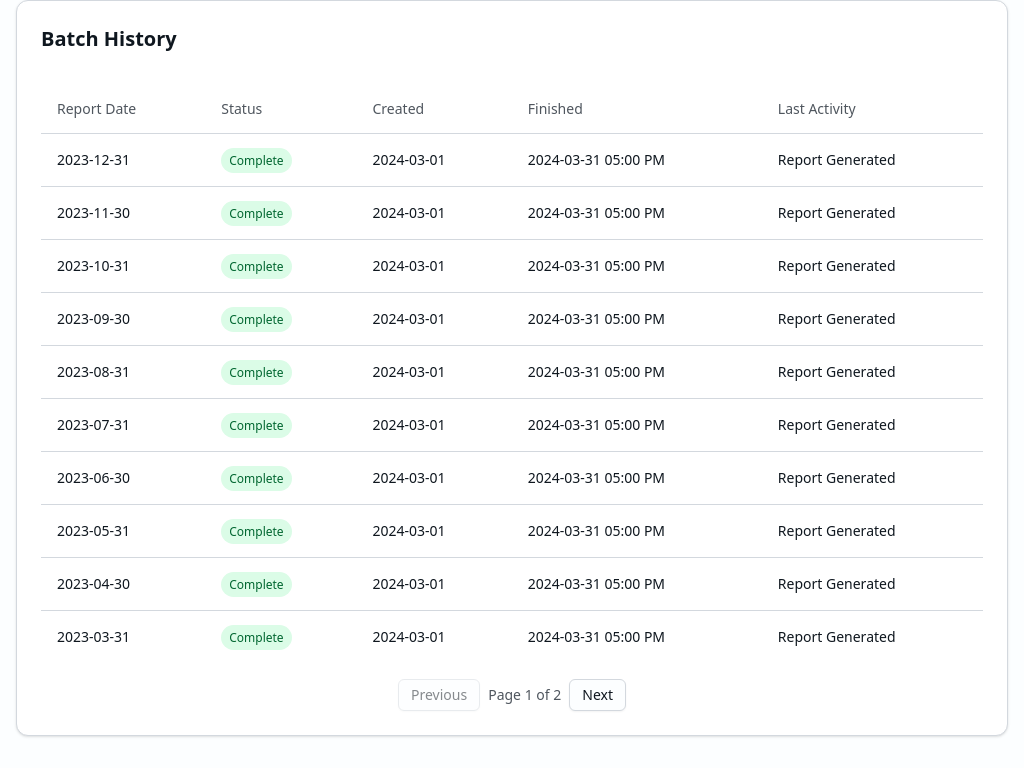
Test: Epic 1, Story 5: Start Page - Batch History › Pagination › shows next 10 batches when Next button is clicked
(page scrolled)
Check: the text "2023-12-31" is shown, box [41,133,205,186]
Note: Click Next
Click the button "Next" at (598, 694), box [569,678,626,710]
(page scrolled)
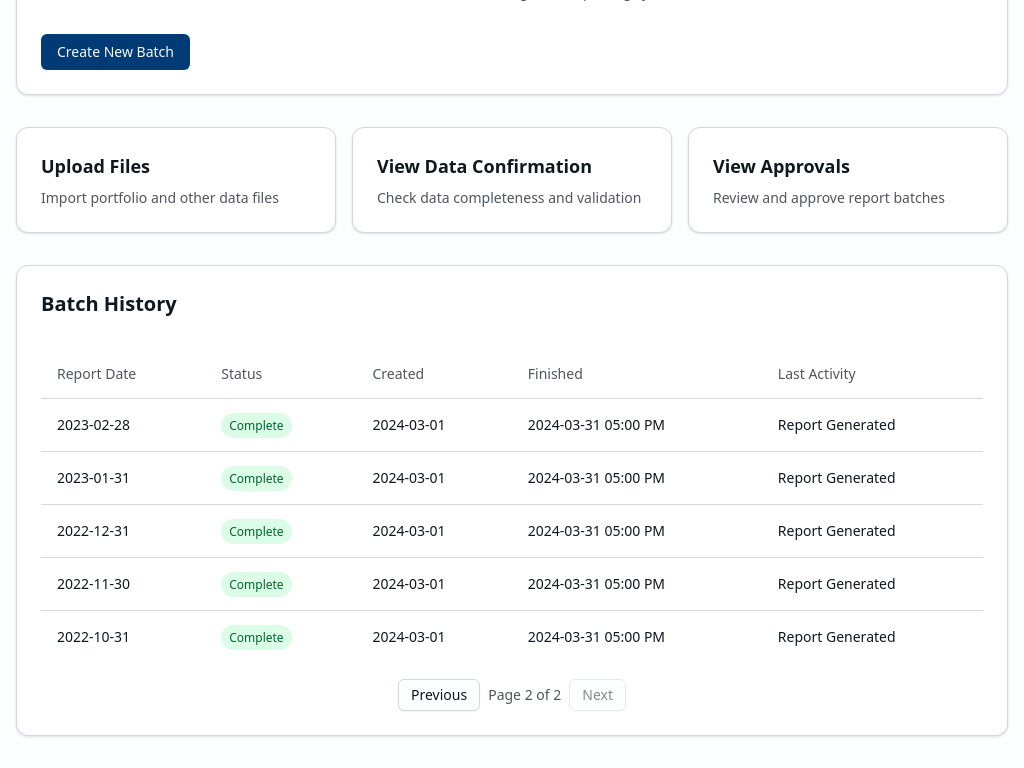
Check: the text "2023-02-28" is shown, box [41,398,205,451]
